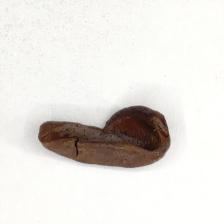NG: (38, 105, 168, 166)
